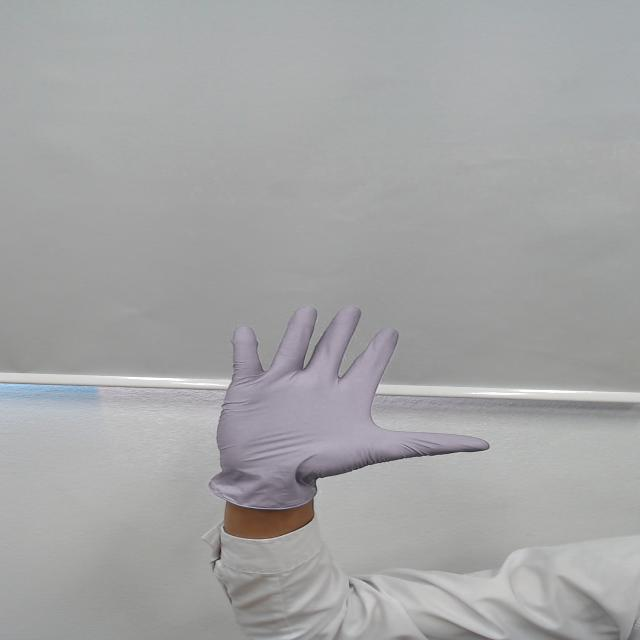glove: (168, 303, 514, 497)
